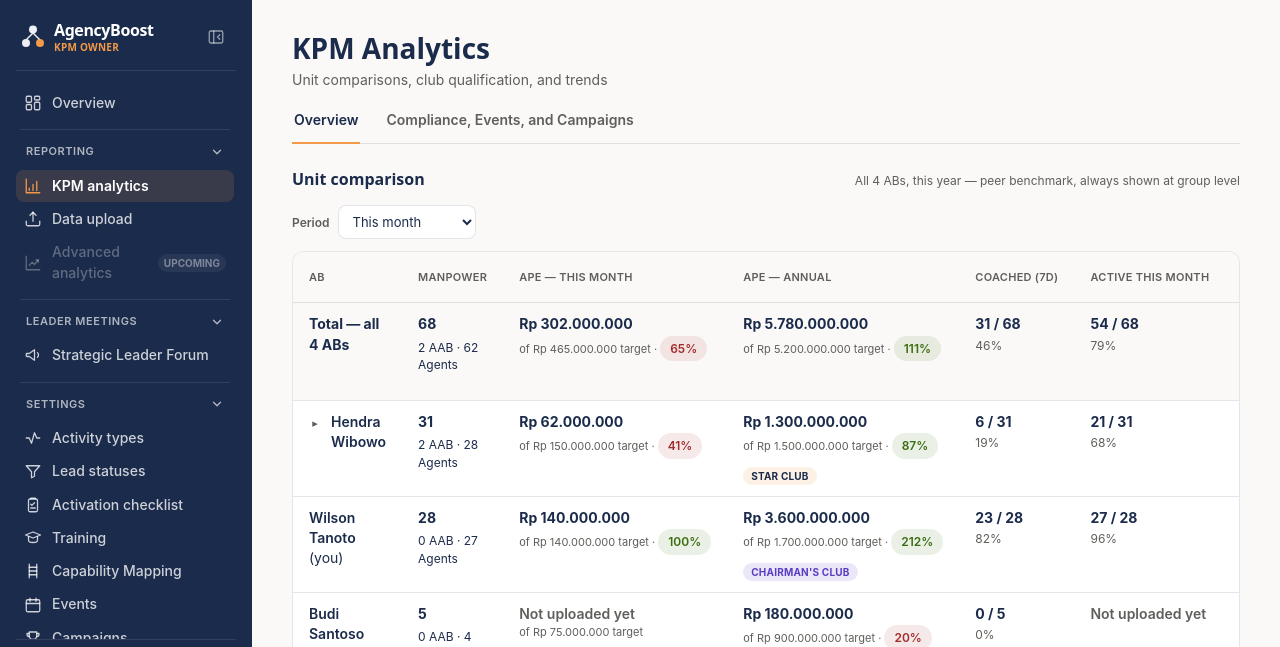
KPM analytics (P18-T2) › AC-2 the table, verbatim › writes "{n} AAB · {m} Agents", and its toggle lists the agency’s people by name, with no "example roster" note
Expected: the text "2 AAB · 28 Agents" is shown, [418,436,487,471]
Step 1. Click the button named "31 people in Hendra Wibowo’s agency" → (426,422), box [418,412,433,432]
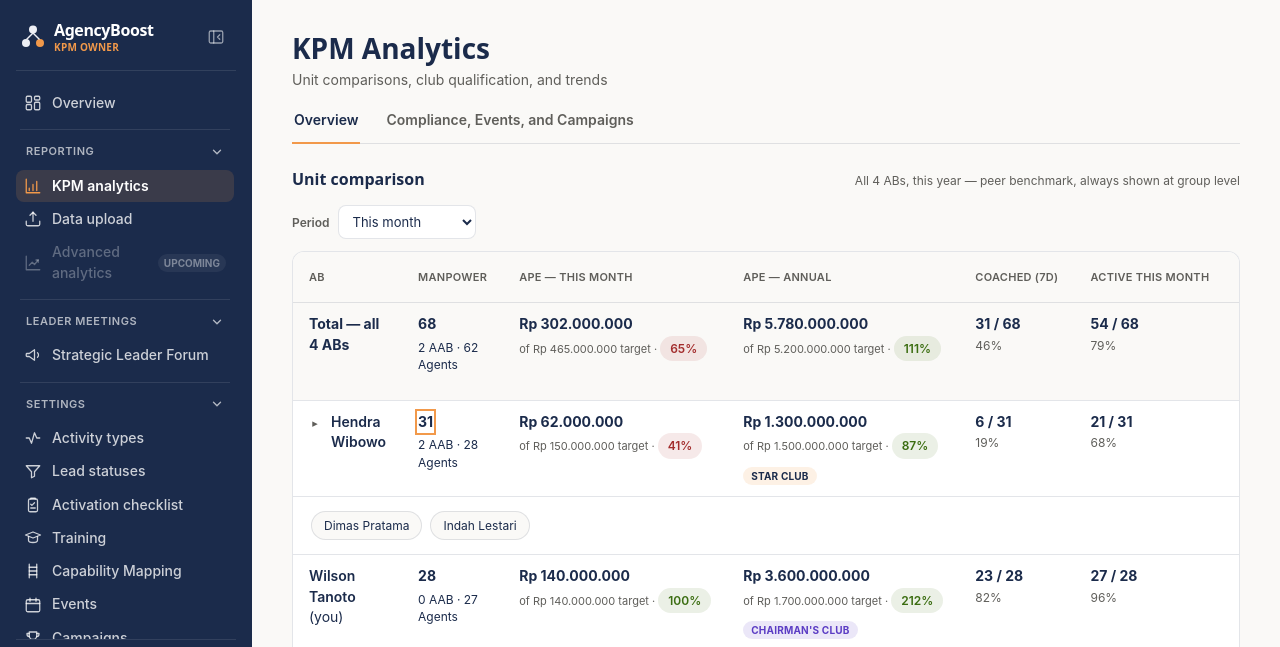
Now the list items read "Dimas Pratama", "Indah Lestari", in this order, box [311,511,422,540]; [430,511,530,540]
